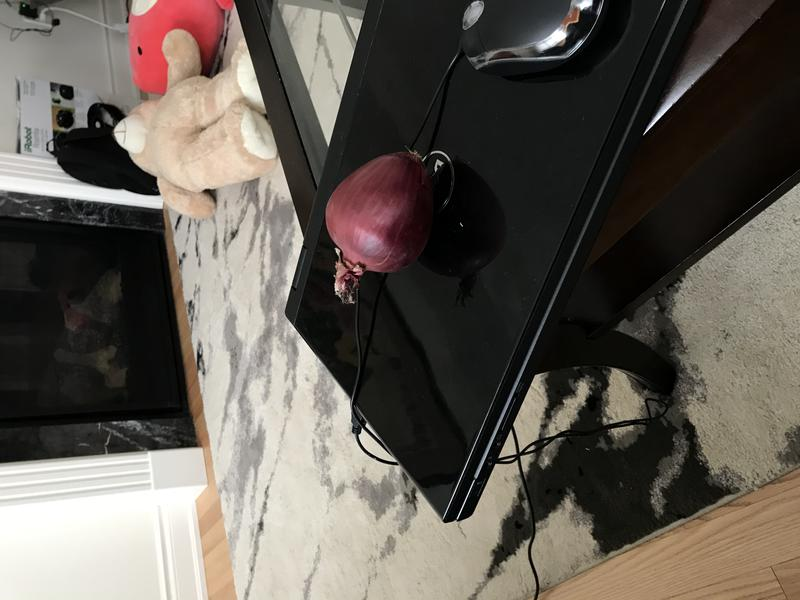purple_onion: (317, 137, 446, 312)
